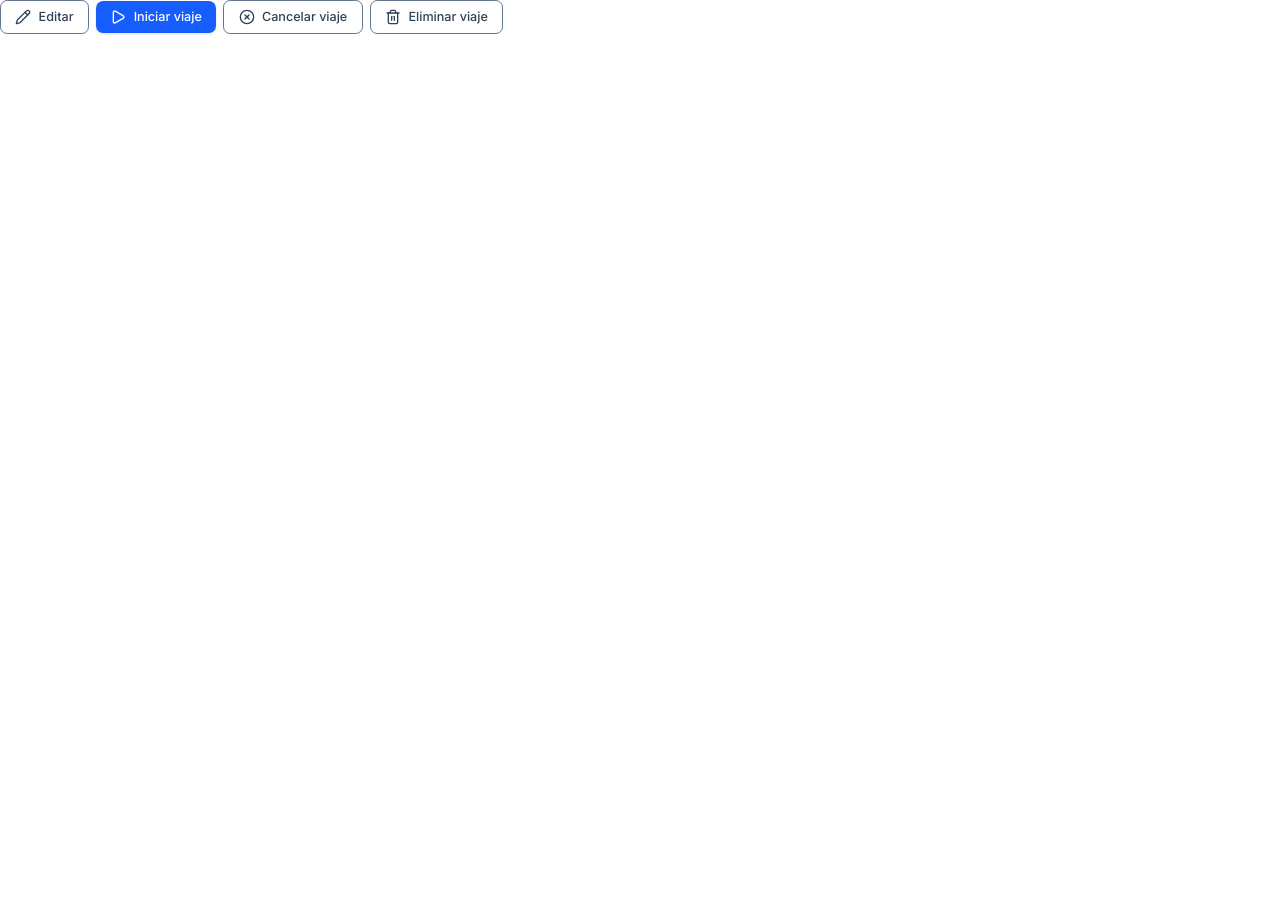
Scenario: ServiceStatusActions, la apertura › abre el diálogo de salida desde PENDING_START
The width and height of the screenshot is (1280, 900).
Click the button "Eliminar viaje": coordinates (437, 17) [370,0,503,34]
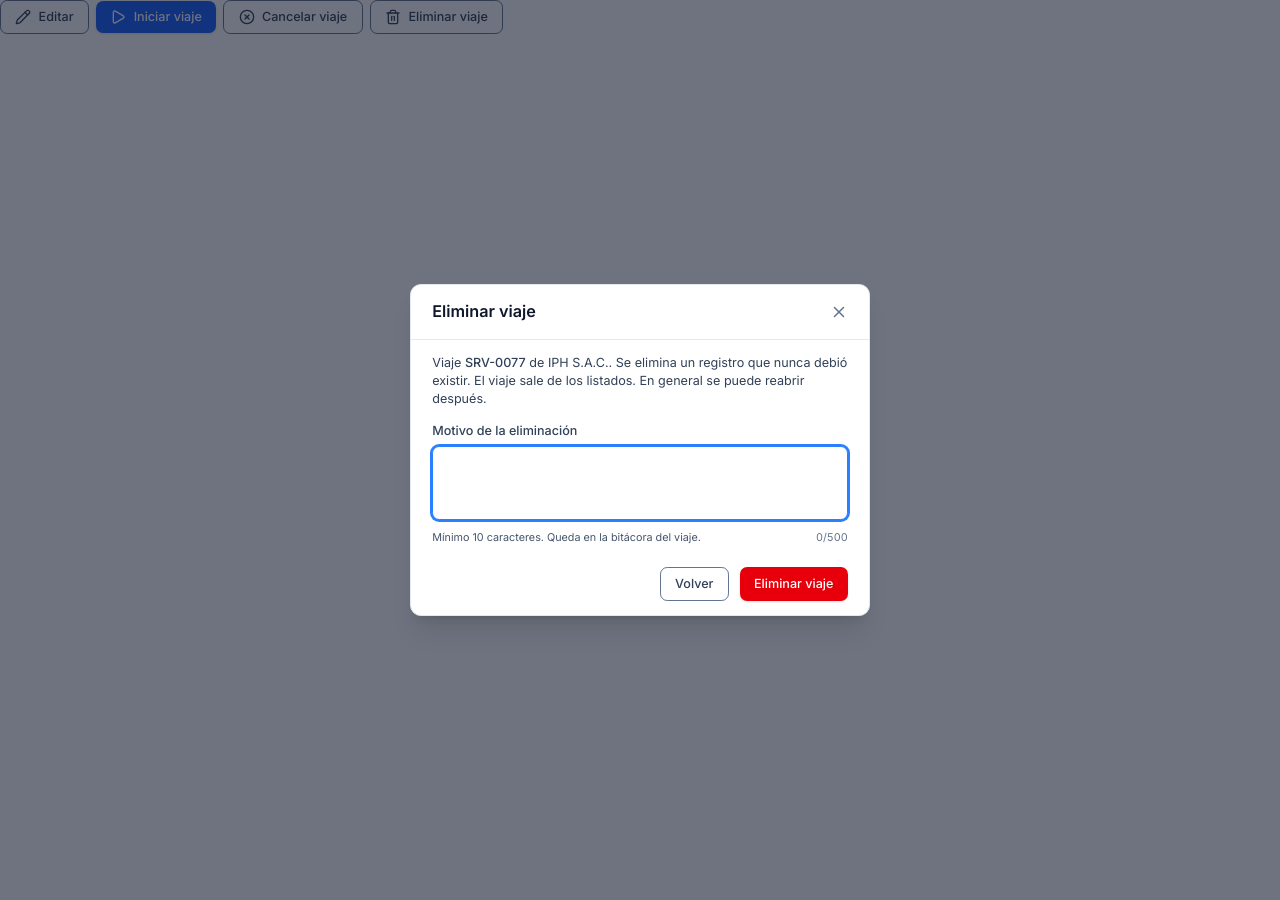
Result: the dialog "Eliminar viaje" is shown at [410,284,870,616]
Result: the text box labelled "Motivo de la eliminación" is shown at [432,446,848,520]
